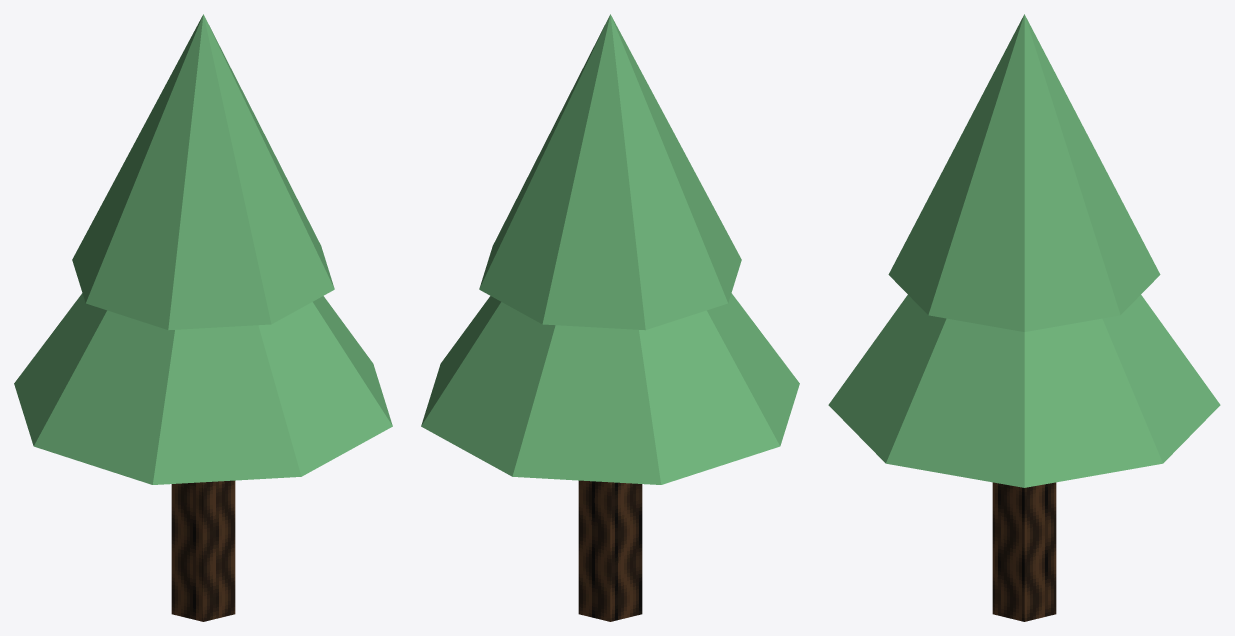
File: arbre.glb
3 renders of one model, left to right at view 1: azimuth 30°, elevation 25°; view 2: azimuth 150°, elevation 25°; view 3: azimuth 270°, elevation 25°, orthographic.
Parts seen in each view (by area): view 1: Feuillage, Tronc; view 2: Feuillage, Tronc; view 3: Feuillage, Tronc.
Part boxes in pixels (<box>): Feuillage: <box>14,14,392,484</box>; Tronc: <box>171,480,235,621</box>; Feuillage: <box>421,14,799,484</box>; Tronc: <box>578,480,642,621</box>; Feuillage: <box>828,14,1220,487</box>; Tronc: <box>992,482,1056,621</box>.
Size of the model in its own units: 1.5 by 2.5 by 1.5.
2 materials, 1 textured.
